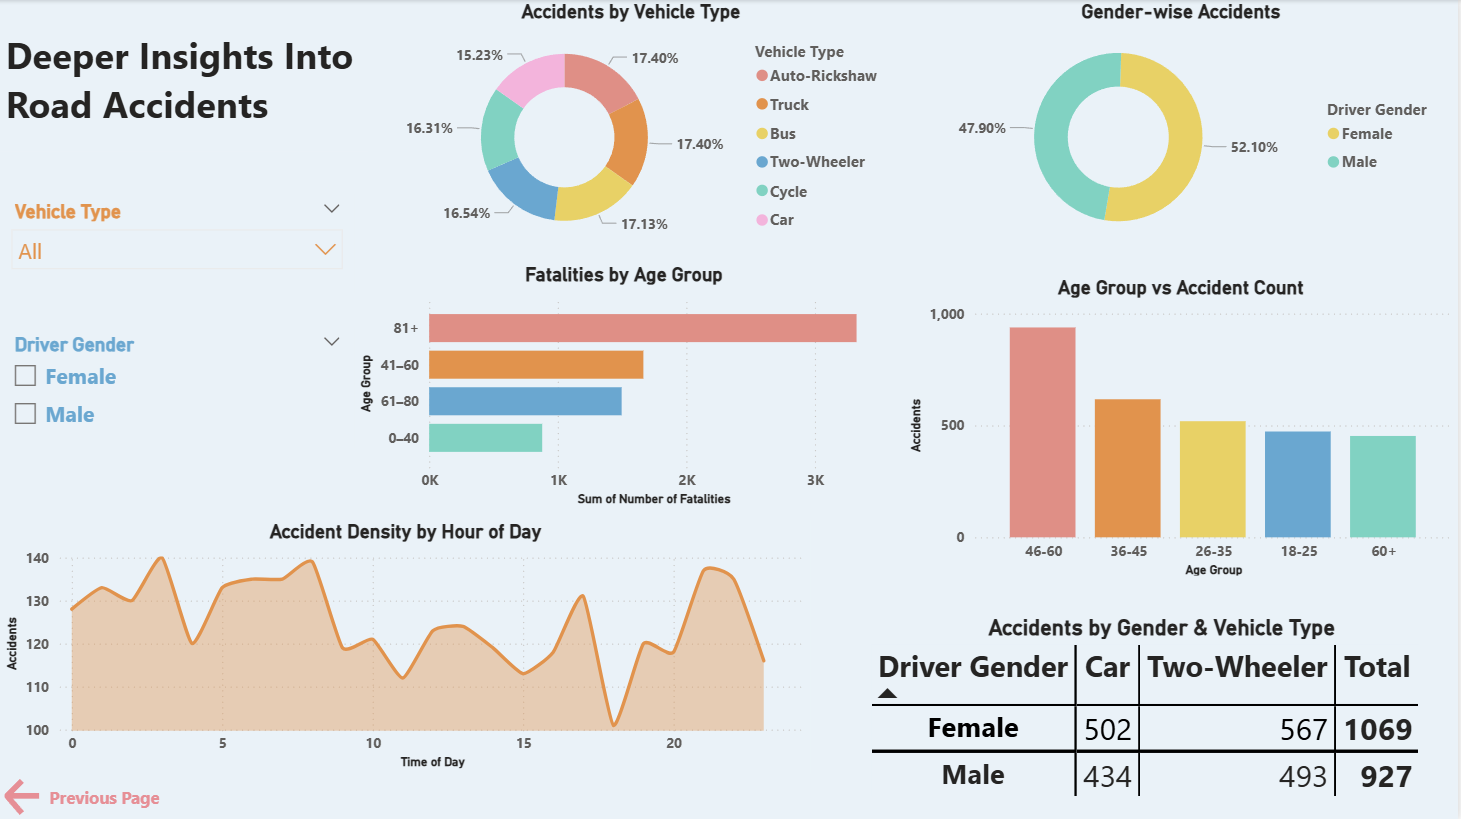

The dashboard page shown, as its layout file describes it:
{"tool":"powerbi","page":{"name":"Page 2","canvas":[1280,720],"ordinal":1},"visuals":[{"type":"lineChart","title":"Accident Density by Hour of Day","fields":{"Category":["accident density.Time of Day"],"Y":["CountNonNull(accident density.Accident Location Details)"]},"box":[0,456.6,712.1,223],"z":0},{"type":"columnChart","title":"Age Group vs Accident Count","fields":{"Category":["age group vs accident count.Age Group"],"Y":["CountNonNull(age group vs accident count.Accident Location Details)"]},"box":[793.7,242.2,486.3,268.4],"z":1000},{"type":"donutChart","title":"Accidents by Vehicle Type","fields":{"Category":["acc by vehicle type.Vehicle Type Involved"],"Y":["CountNonNull(acc by vehicle type.Total Affected)"]},"box":[323.1,0,461.9,222.1],"z":2000},{"type":"donutChart","title":"Gender-wise Accidents","fields":{"Category":["casualties vs fatalities.Driver Gender"],"Y":["CountNonNull(casualties vs fatalities.Total Affected)"]},"box":[793.7,0,486.3,221.8],"z":3000},{"type":"barChart","title":"Fatalities by Age Group","fields":{"Category":["accident_prediction_india (3).Speed Group"],"Y":["Sum(Fatalities by Speed Group.Number of Fatalities)"]},"box":[310.8,230.9,474.1,217.8],"z":4000},{"type":"pivotTable","title":"Accidents by Gender & Vehicle Type","fields":{"Rows":["accident_prediction_india (2).Driver Gender"],"Columns":["accident_prediction_india (2).Vehicle Type Involved"],"Values":["Sum(accident_prediction_india (2).Number of Fatalities)"]},"box":[760.6,538.8,519.4,180.9],"z":5000},{"type":"slicer","fields":{"Values":["VehicleTypeTable.Vehicle Type Involved"]},"box":[0,170.2,311.2,86.6],"z":6000},{"type":"slicer","fields":{"Values":["DriverGenderTable.Driver Gender"]},"box":[0,286.9,311.2,106],"z":7000},{"type":"textbox","box":[0,20.4,322.9,112.8],"z":8000},{"type":"actionButton","box":[0,679.6,144,40.4],"z":9000}]}

Visuals, with their boxes in screenshot pixels (x1, y1, x2, y2), scaled from the page's 1280x720 canvas onto the 1461x819 screenshot:
"Accident Density by Hour of Day" lineChart: box(0, 519, 813, 773)
"Age Group vs Accident Count" columnChart: box(906, 276, 1460, 581)
"Accidents by Vehicle Type" donutChart: box(369, 0, 896, 253)
"Gender-wise Accidents" donutChart: box(906, 0, 1460, 252)
"Fatalities by Age Group" barChart: box(355, 263, 896, 510)
"Accidents by Gender & Vehicle Type" pivotTable: box(868, 613, 1460, 818)
slicer - VehicleTypeTable.Vehicle Type Involved: box(0, 194, 355, 292)
slicer - DriverGenderTable.Driver Gender: box(0, 326, 355, 447)
textbox: box(0, 23, 369, 152)
actionButton: box(0, 773, 164, 818)
